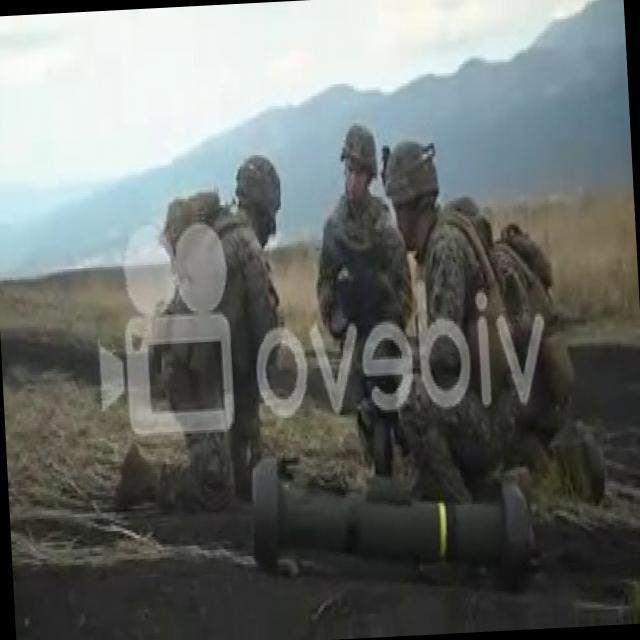rocket: (251, 441, 530, 605)
